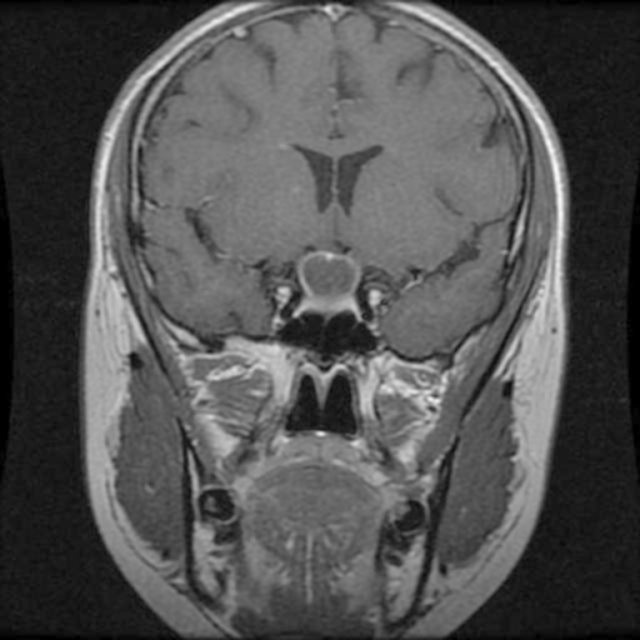no tumor: (297, 246, 365, 306)
